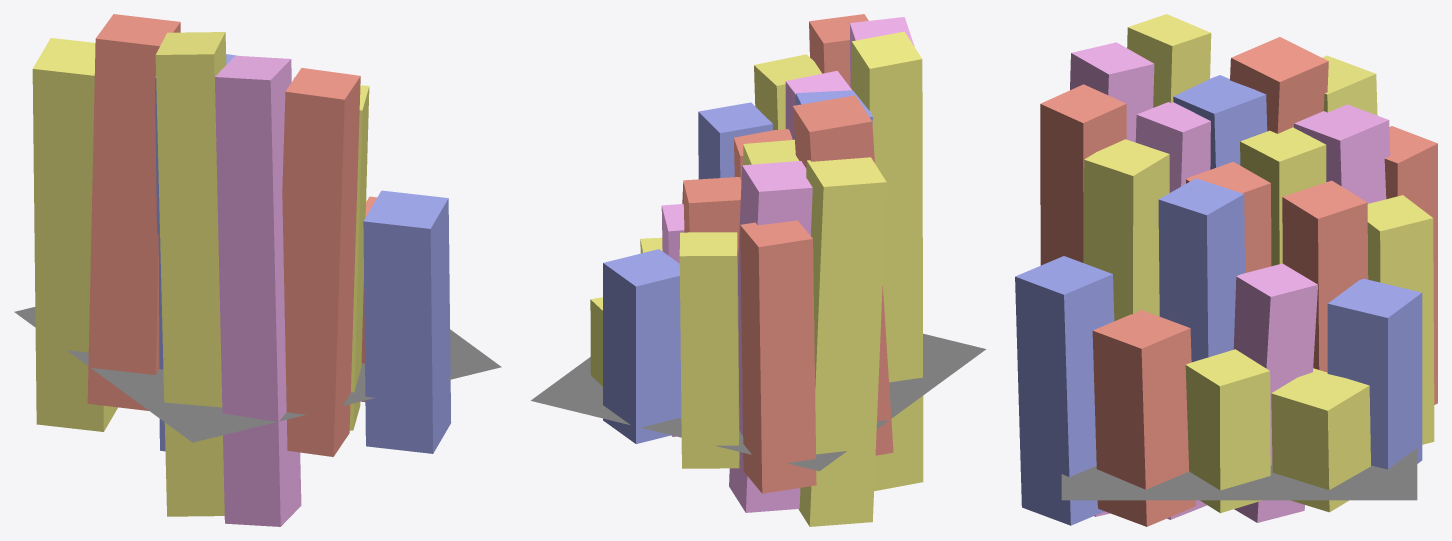
Rendered from building module 2.glb.
3 views of the same model, side by side, from view 1: azimuth 30°, elevation 25°; view 2: azimuth 150°, elevation 25°; view 3: azimuth 270°, elevation 25° (orthographic). The views are drawn at different scales.
Parts seen in each view (by area): view 1: bake 2; view 2: bake 2; view 3: bake 2.
Part boxes in pixels (x1=…): bake 2: x1=14, y1=14, x2=501, y2=526; bake 2: x1=531, y1=14, x2=986, y2=526; bake 2: x1=1015, y1=14, x2=1437, y2=526.
Size of the model in its own units: 2.17 by 2.88 by 2.38.
1 material, 1 textured.
